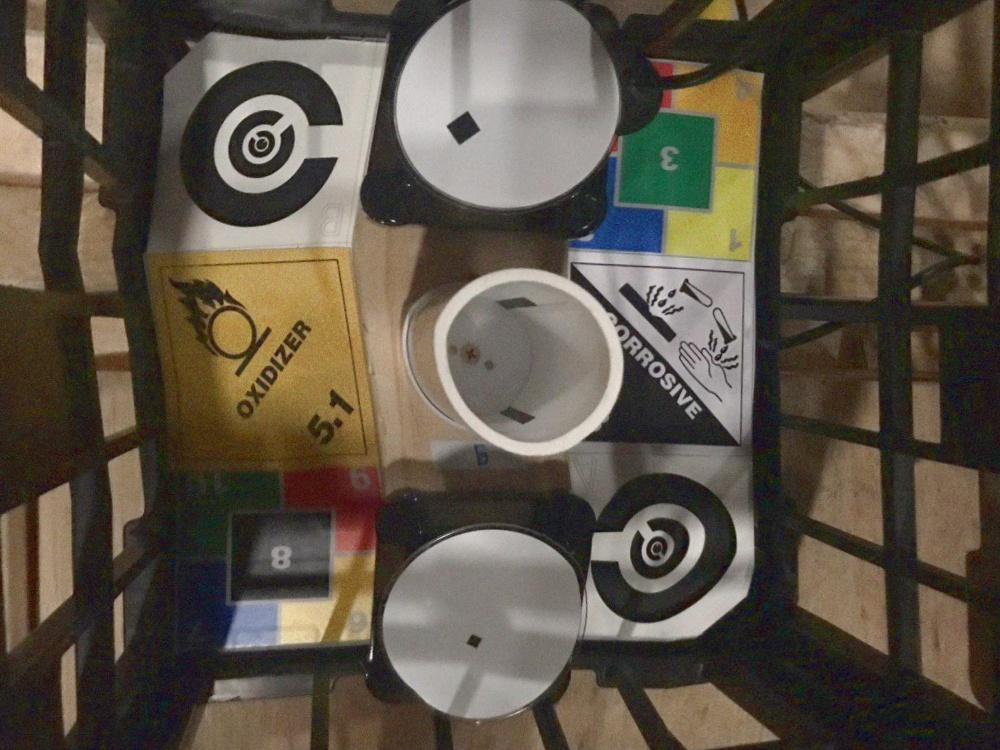corrosive: (563, 253, 759, 448)
oxidizer: (143, 239, 386, 474)
